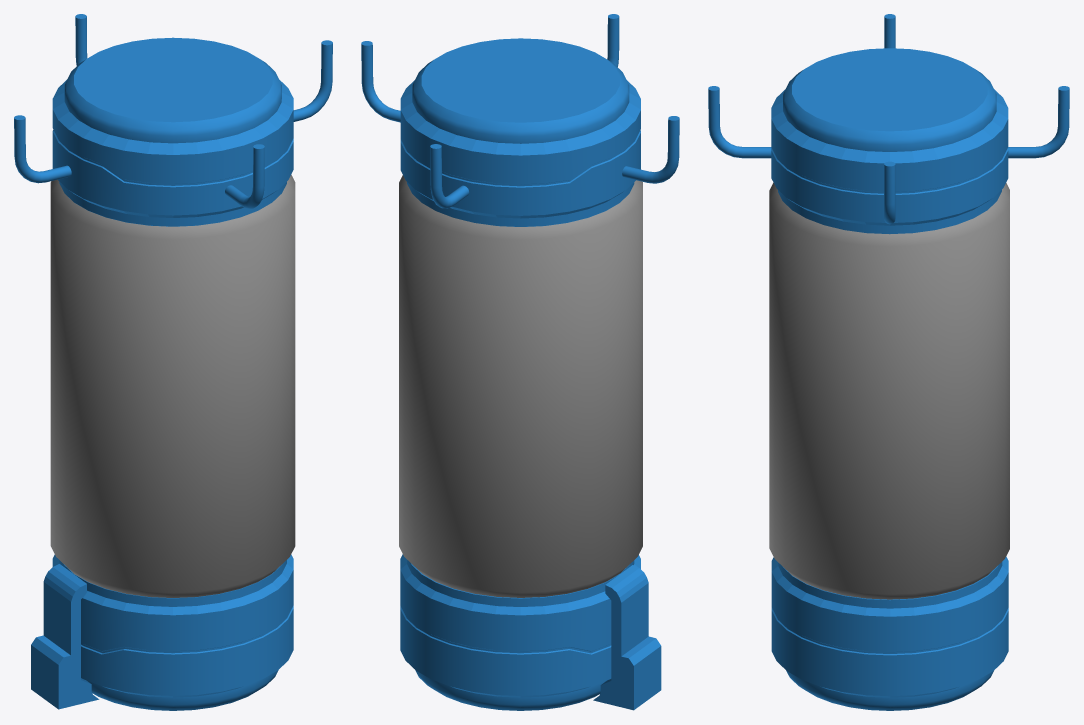
Rendered from CryoTube_L.FBX.
The picture shows the model from 3 angles, left to right: view 1: azimuth 30°, elevation 25°; view 2: azimuth 150°, elevation 25°; view 3: azimuth 270°, elevation 25°; orthographic projection.
Visible parts, largest first — view 1: CrytoTube_Glass_Low; view 2: CrytoTube_Glass_Low; view 3: CrytoTube_Glass_Low.
Boxes of the visible parts, <box> form: CrytoTube_Glass_Low: <box>14,14,332,710</box>; CrytoTube_Glass_Low: <box>361,14,679,710</box>; CrytoTube_Glass_Low: <box>708,14,1069,710</box>.
Size of the model in its own units: 1.27 by 2.25 by 1.27.
